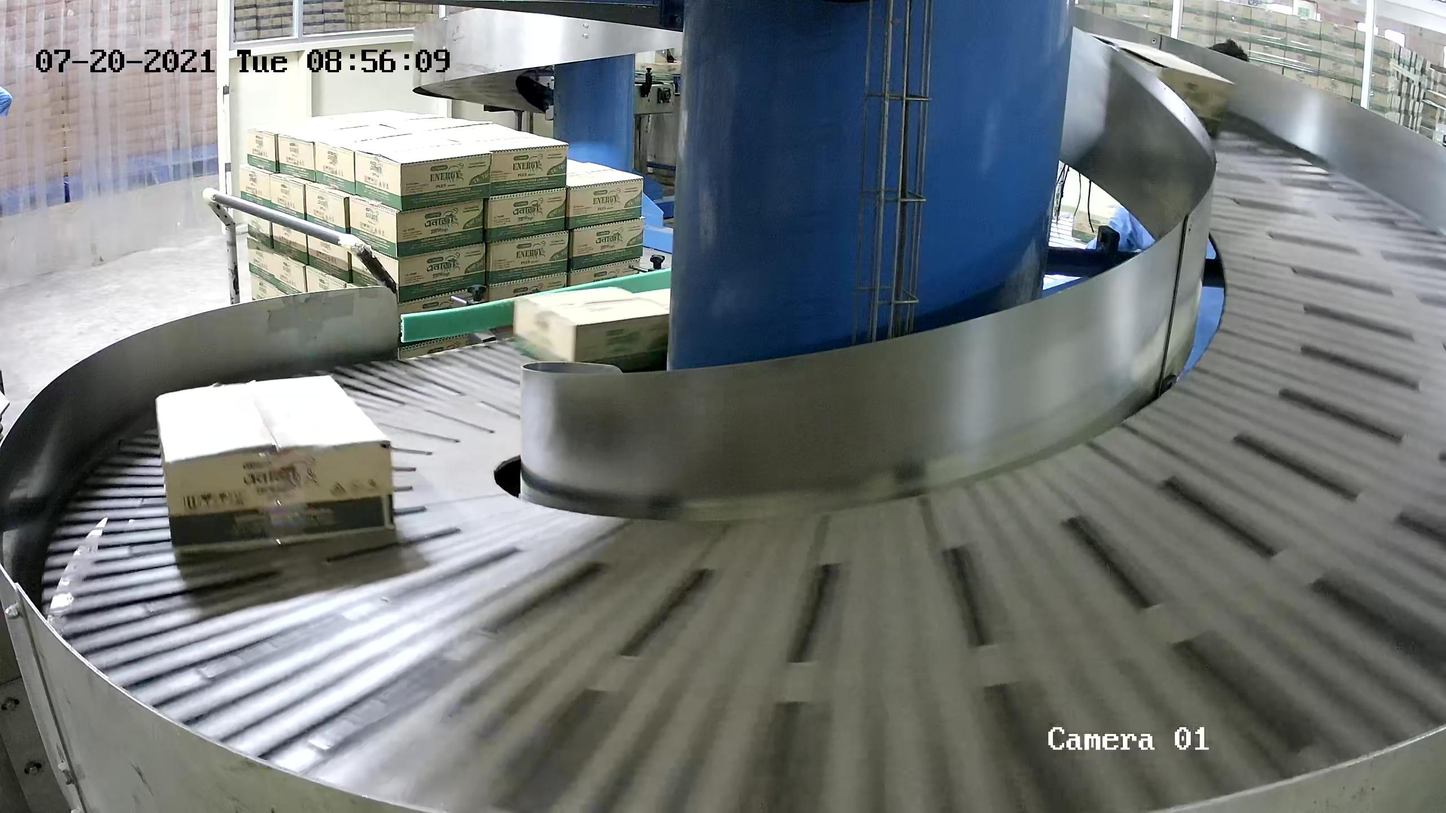Box: (154, 374, 396, 553), (1082, 30, 1236, 141), (511, 286, 670, 371)
